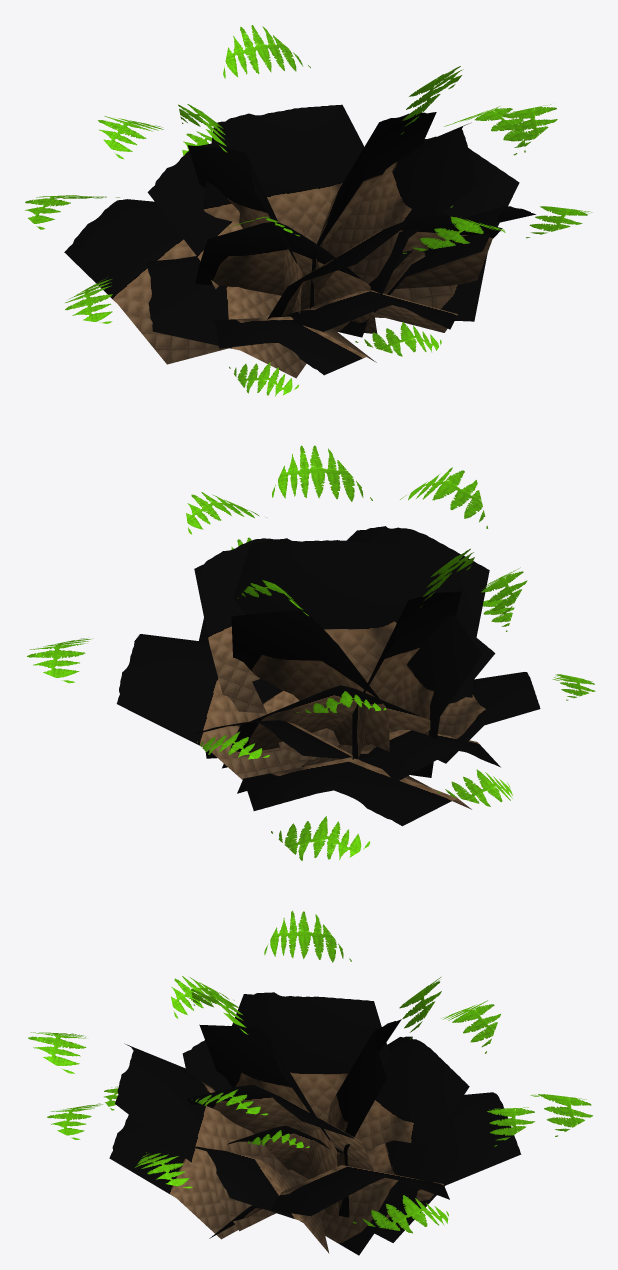
The model's file is Fern (5).FBX.
3 views of the same model, one above another, from view 1: azimuth 30°, elevation 25°; view 2: azimuth 150°, elevation 25°; view 3: azimuth 270°, elevation 25° (orthographic). The views are drawn at different scales.
Parts seen in each view (by area): view 1: Plane015; view 2: Plane015; view 3: Plane015.
Part boxes in pixels (x1,y1,x2,y2): Plane015: [25, 25, 592, 396]; Plane015: [27, 445, 595, 860]; Plane015: [28, 910, 592, 1255].
Bounding box in the file's own units: 817 × 463 × 902.
